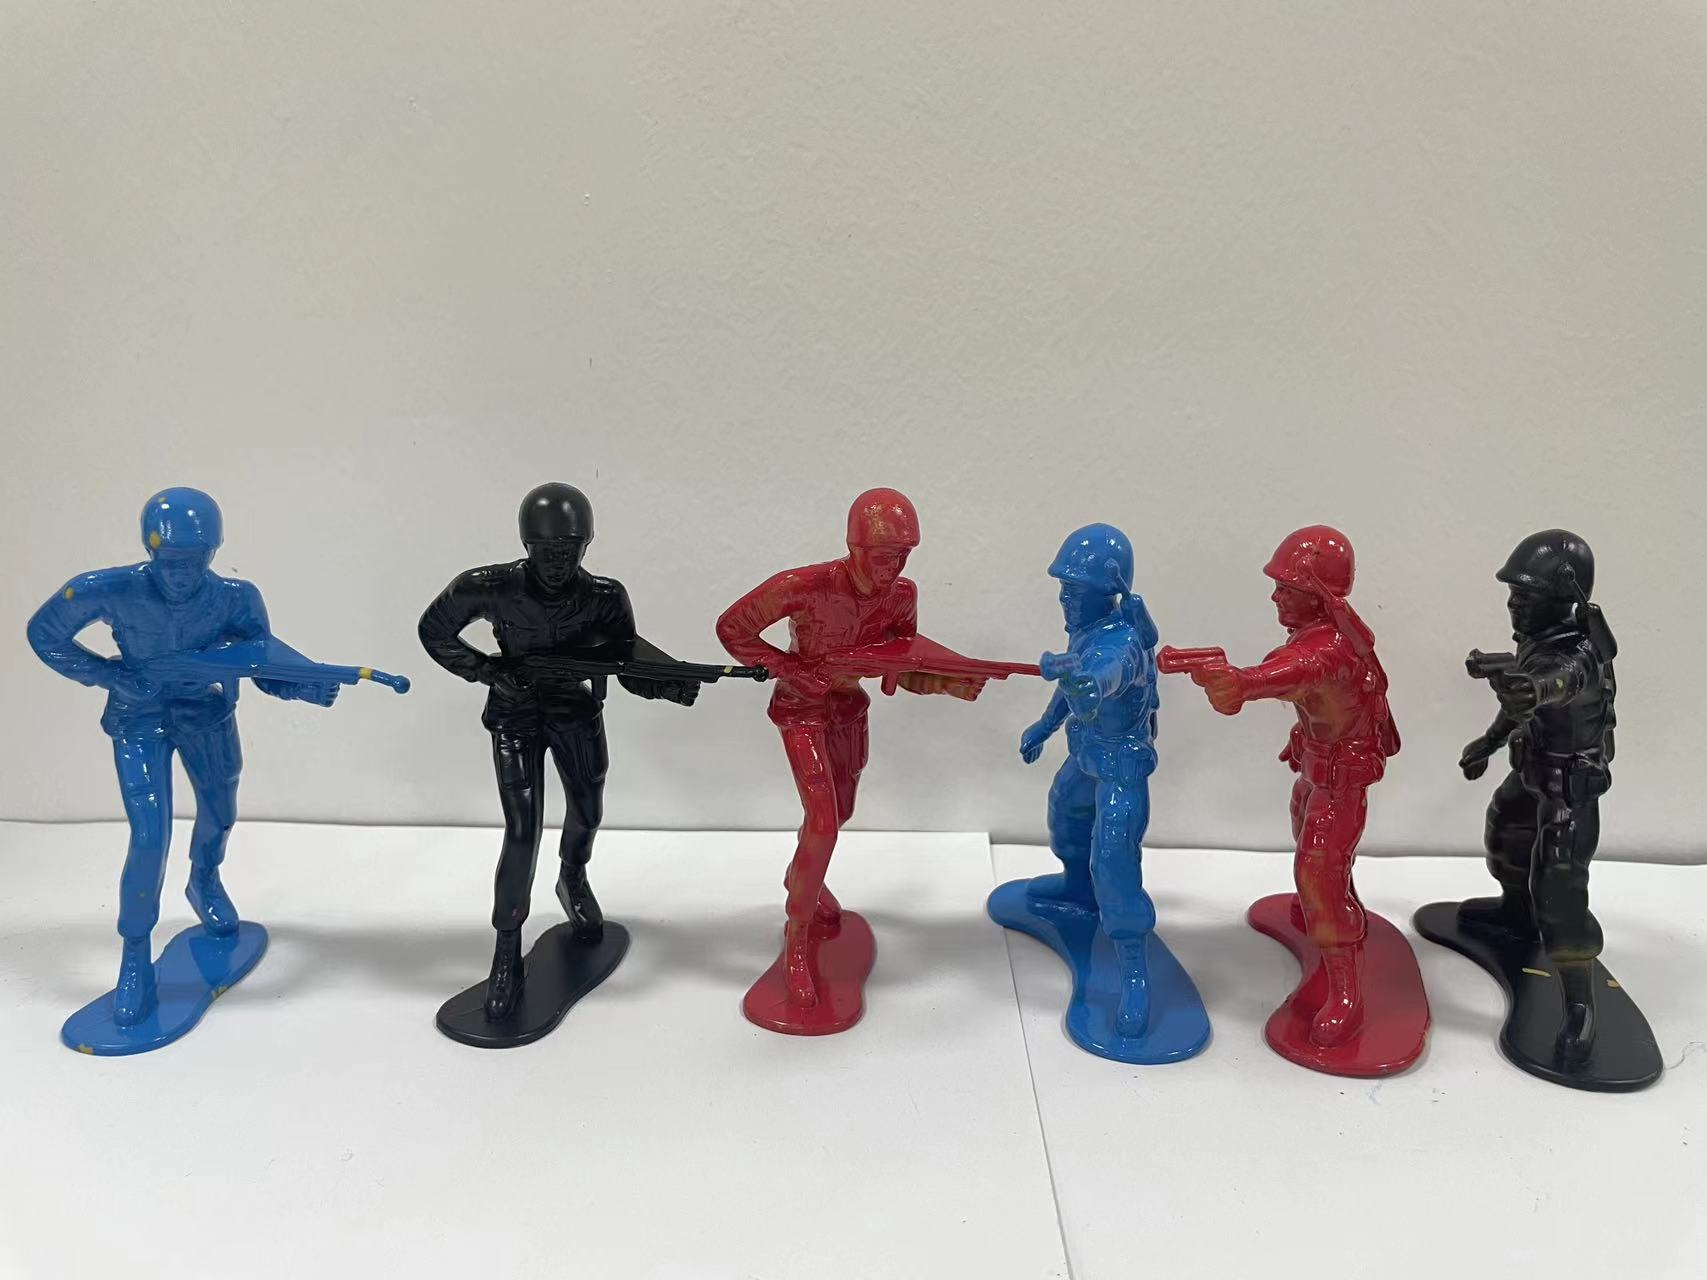black: (382, 454, 694, 1121), (1434, 487, 1685, 1150)
blue: (13, 469, 391, 1092), (976, 519, 1206, 1104)
red: (691, 430, 1000, 1089), (1179, 507, 1425, 1150)
